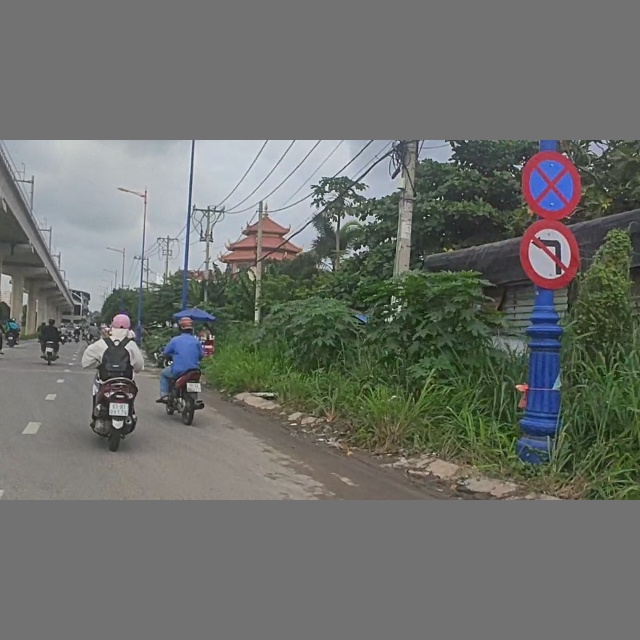P.123a: (519, 219, 579, 289)
P.130: (521, 150, 581, 218)
